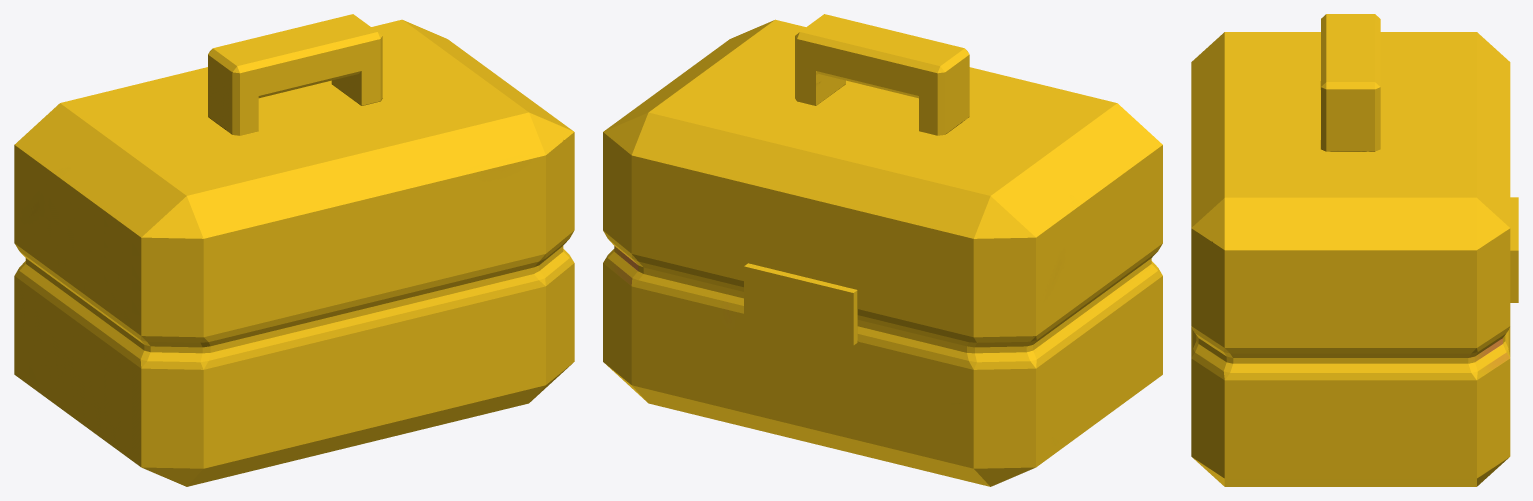
Rendered from Placeholder.glb.
The picture shows the model from 3 angles, left to right: view 1: azimuth 30°, elevation 25°; view 2: azimuth 150°, elevation 25°; view 3: azimuth 270°, elevation 25°; orthographic projection.
Visible parts, largest first — view 1: Cube.001; view 2: Cube.001; view 3: Cube.001.
Part boxes in pixels (x1,y1,x2,y2): Cube.001: [14, 14, 574, 486]; Cube.001: [603, 14, 1162, 486]; Cube.001: [1191, 14, 1518, 486].
Bounding box in the file's own units: 1.56 × 1.23 × 1.03.
1 material, 1 textured.
